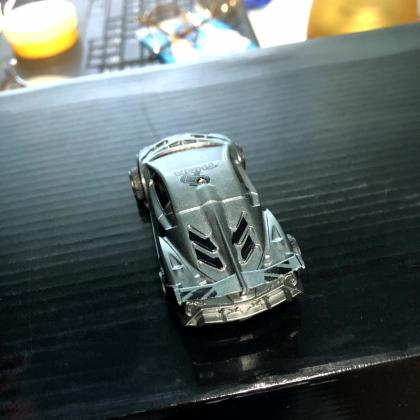Car: (129, 134, 305, 329)
